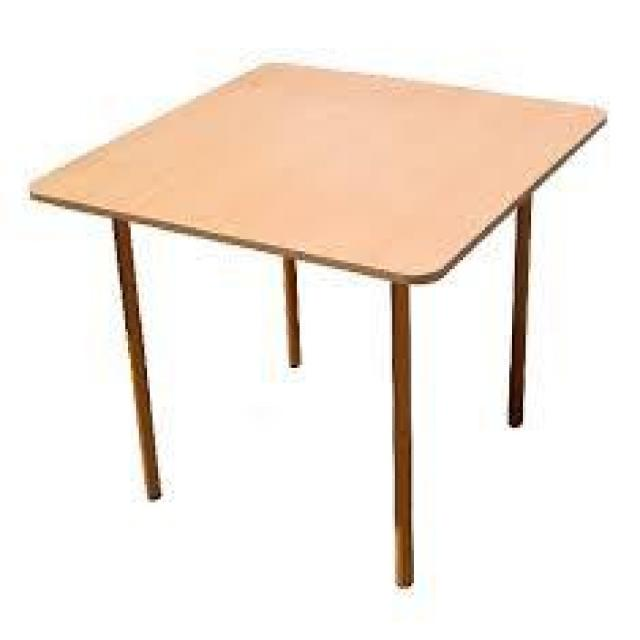table: (7, 24, 628, 598)
